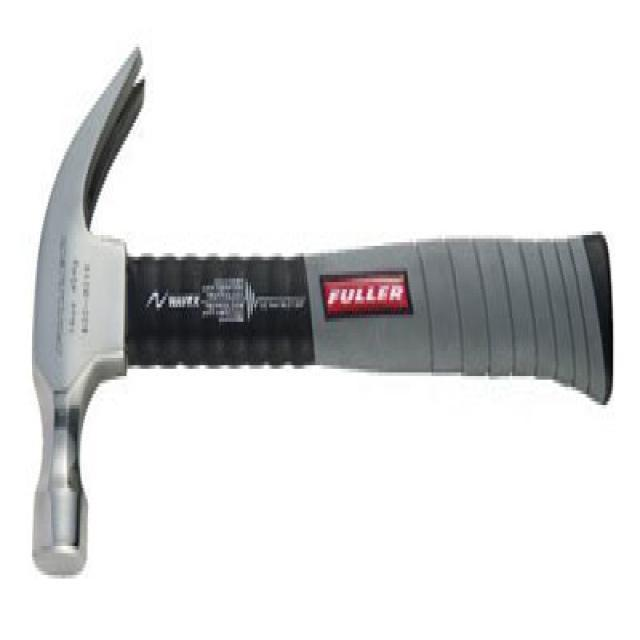hammer: (18, 38, 626, 596)
